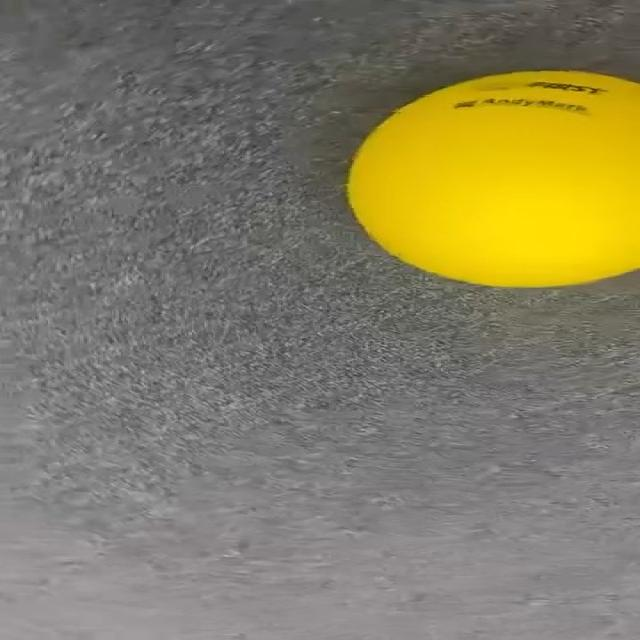Fuels: (350, 70, 638, 286)
